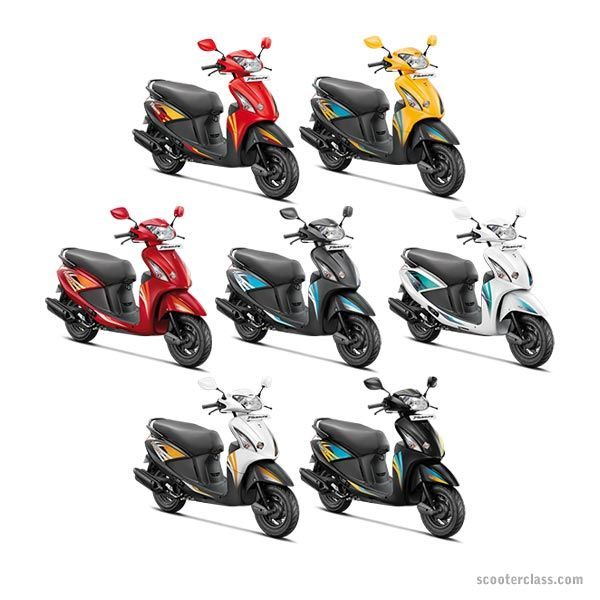bike: (130, 372, 302, 546), (389, 202, 559, 371), (298, 373, 467, 542), (130, 32, 299, 199), (43, 203, 212, 370), (214, 203, 383, 369), (303, 35, 466, 200)
